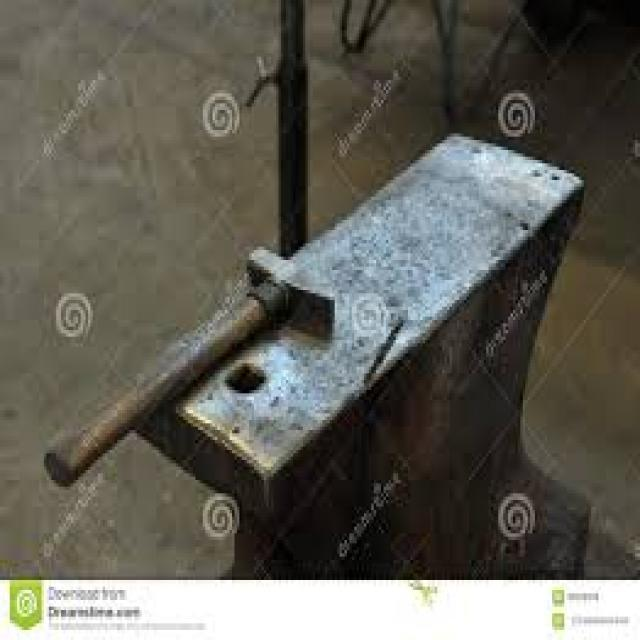hammer: (40, 235, 344, 495)
